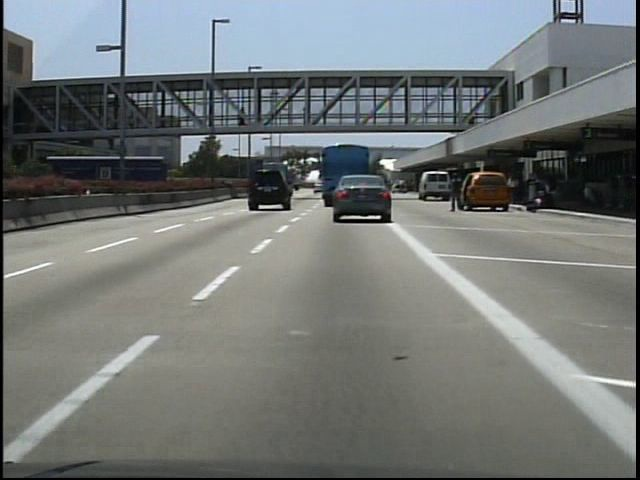person: (449, 173, 469, 218), (236, 102, 252, 127), (299, 105, 313, 133)
